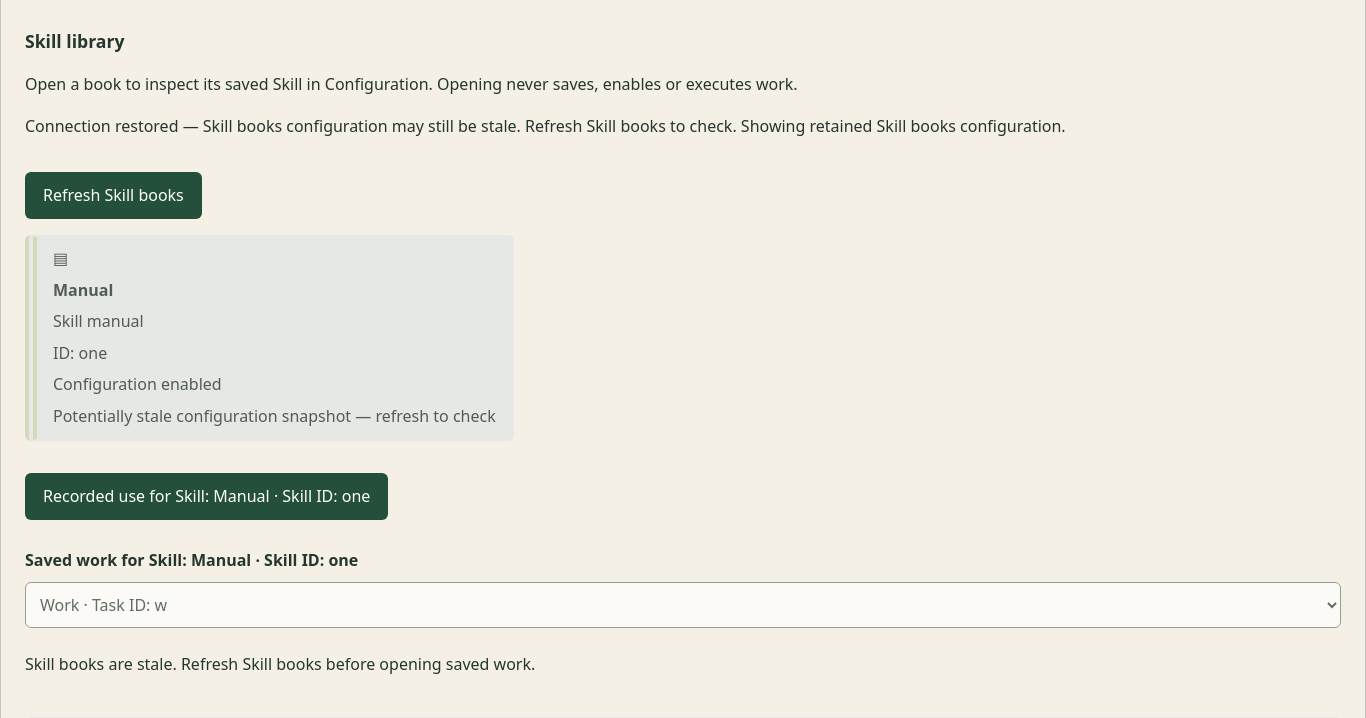
Test: empty, disconnected, refreshing and stale snapshots explain unavailable Open actions
Earlier steps of the test are not shown.
Later steps or results of the test are not shown.
Expected: the text "Disconnected. Refresh connection before opening" is shown, [25,653,535,675]
Expected: the 1st message shows "Connection restored", [25,115,741,137]
Click the button "Refresh Skill books".
click(113, 195)  # box [25,172,202,219]
(page scrolled)
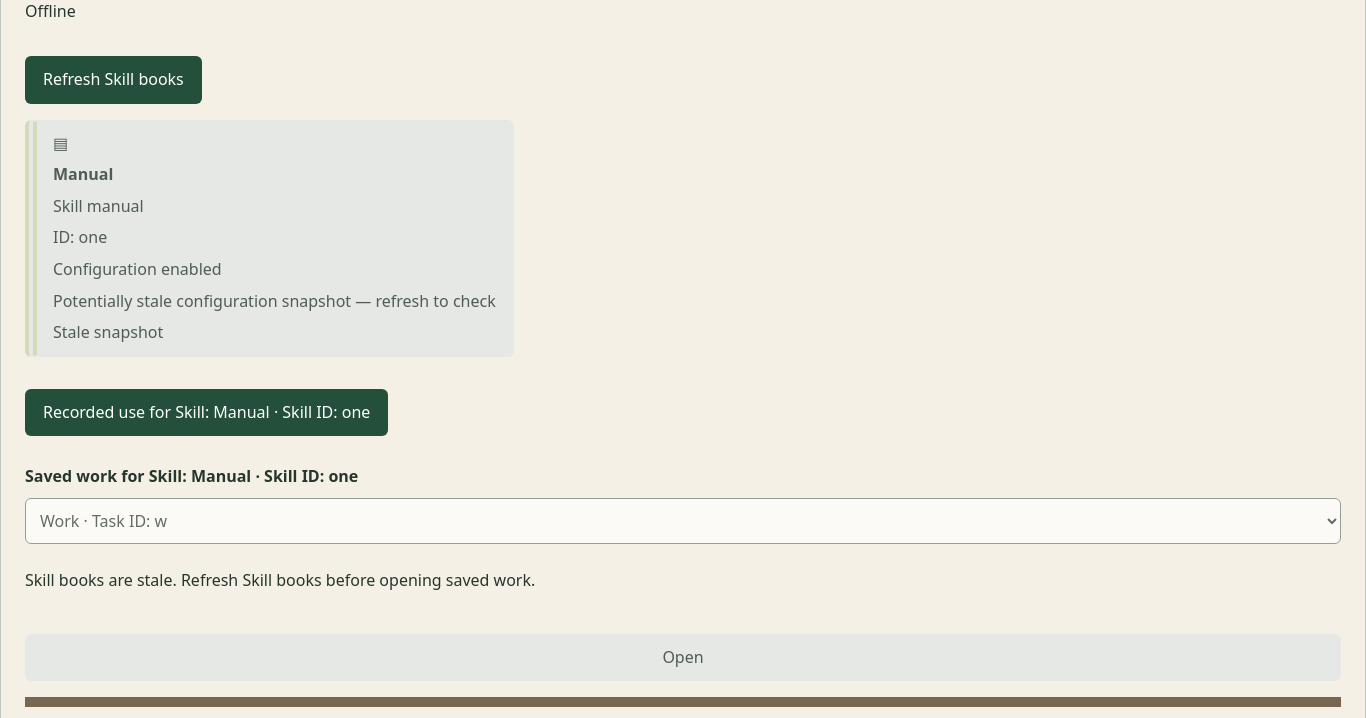
Expected: the text "Skill books are stale. Refresh Skill books before opening saved work." is shown, [25,569,535,591]
Expected: the dropdown labelled "Saved work for Skill: Manual · Skill ID: one" shows "Work · Task ID: w", [25,498,1341,544]
Click the button with aria-label "Open saved work for Skill: Manual · Skill ID: one".
click(683, 657)  # box [25,634,1341,681]
Click the button "Refresh Skill books".
click(113, 80)  # box [25,56,202,104]
(page scrolled)
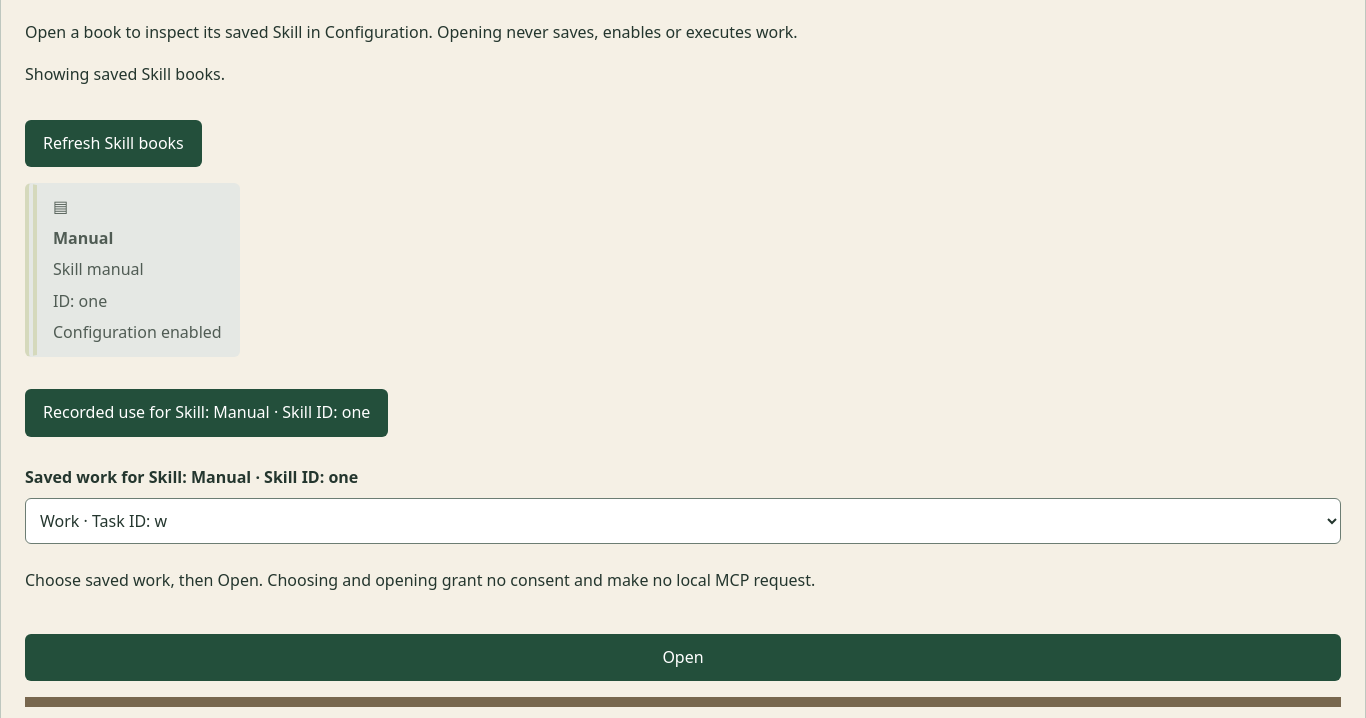
Expected: the dropdown labelled "Saved work for Skill: Manual · Skill ID: one" shows "Work · Task ID: w", [25,498,1341,544]
Now the text "Showing saved Skill books." is shown, box [25,63,225,85]
Now the button with aria-label "Open saved work for Skill: Manual · Skill ID: one" is enabled, box [25,634,1341,682]
